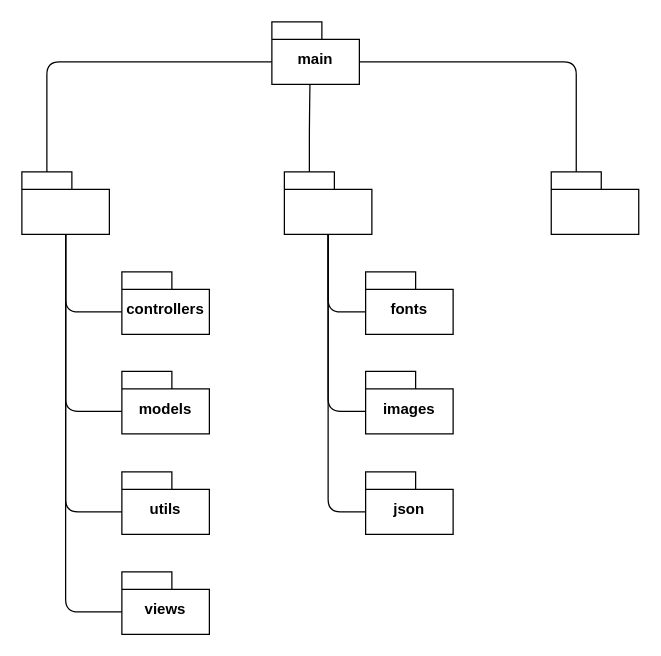
Image size: 661x656. Some labels were removed from this diagram. Here are the shapes that lost their labels. From the top down, the box of each, then its label:
(21, 171, 109, 234): bin
(283, 171, 372, 234): resources
(550, 171, 639, 234): test
